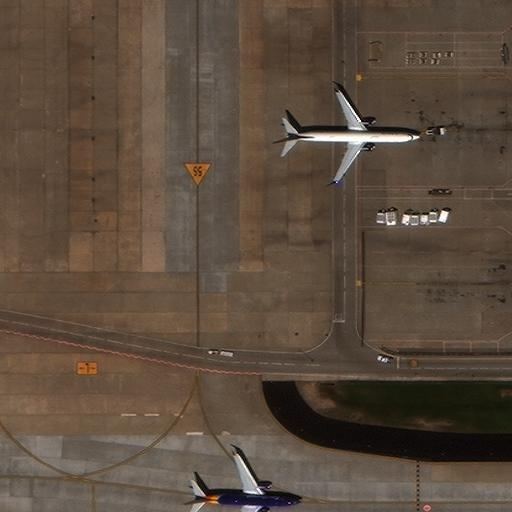Large Civil Transport: (271, 83, 423, 184), (182, 446, 304, 512)
